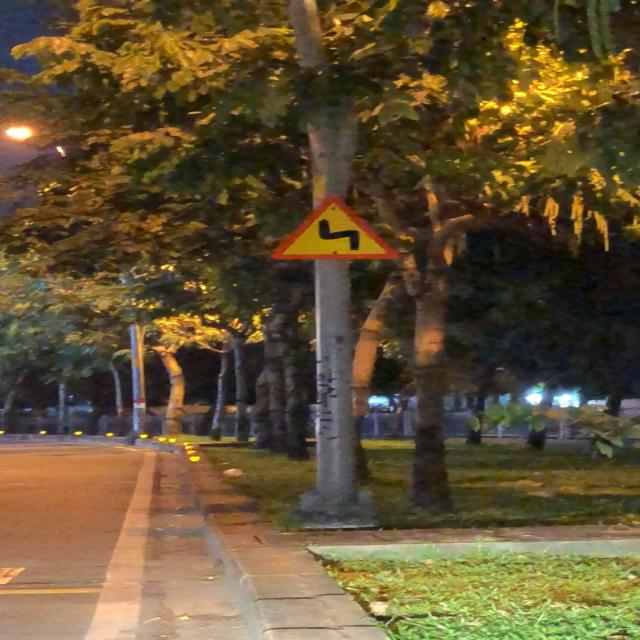Bien bao nhieu cho ngoat nguy hiem lien tiep: (269, 196, 400, 261)
